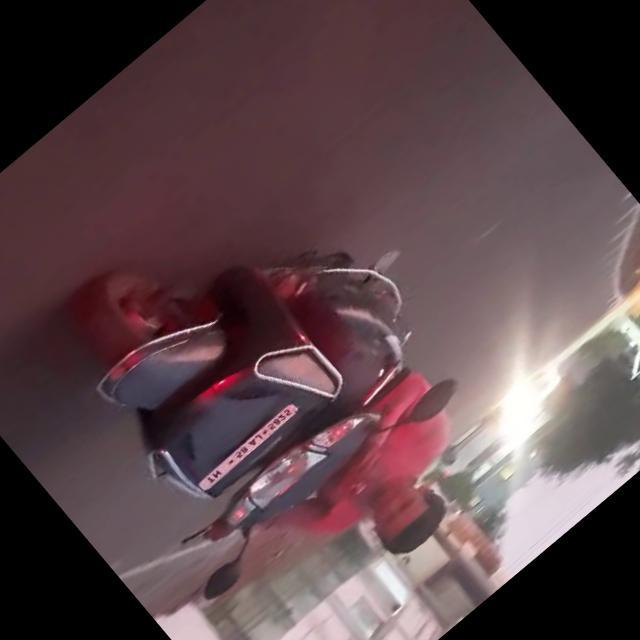USING_MOBILE: (320, 436, 458, 577)
